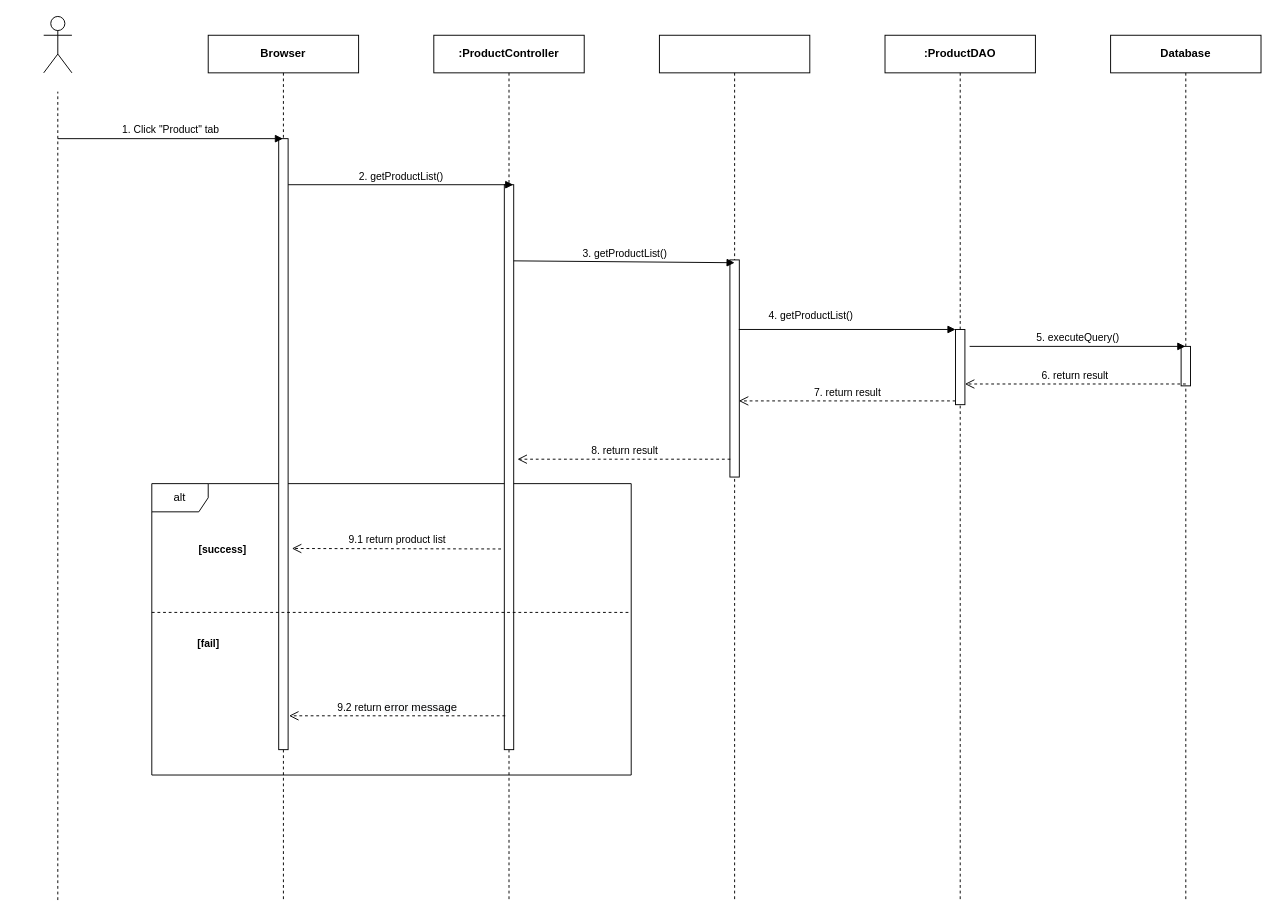
The diagram is 1277 pixels wide and 917 high, and some of its shapes have lost their labels. Here are the shapes that lost their labels. From the top down, the centre of each, then its label:
At [57,44]: "Admin, Manager".
At [734,467]: ":ProductService".
